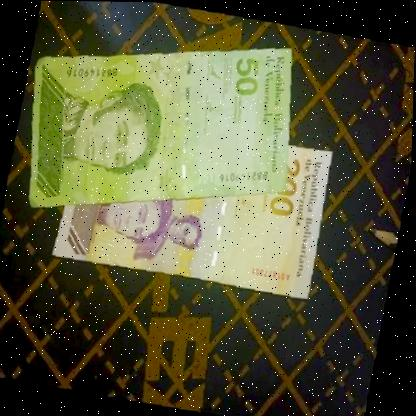fifty-front-vef: (17, 17, 307, 236)
two_hundred-front-vef: (52, 116, 333, 300)
